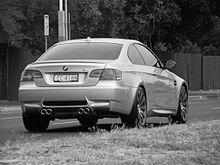car: (18, 39, 190, 129)
